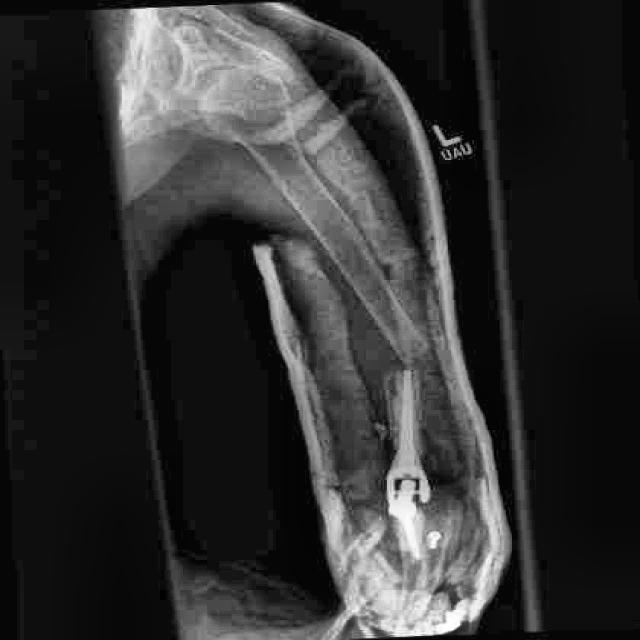humerus: (372, 324, 458, 437)
